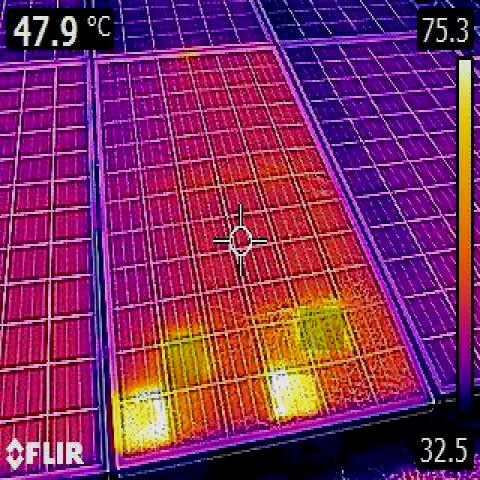fault: (124, 400, 169, 452), (300, 308, 344, 350), (272, 375, 316, 416), (168, 335, 203, 385)
